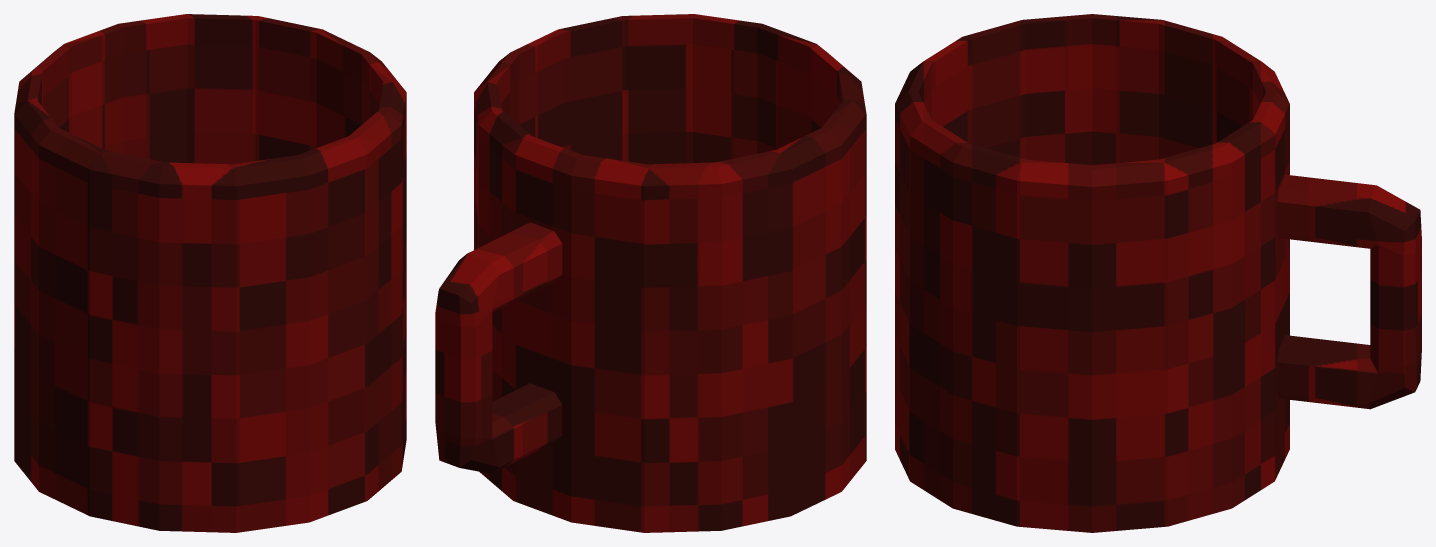
Rendered from mugred.fbx.
3 renders of one model, left to right at view 1: azimuth 30°, elevation 25°; view 2: azimuth 150°, elevation 25°; view 3: azimuth 270°, elevation 25°, orthographic.
Parts seen in each view (by area): view 1: Mug; view 2: Mug; view 3: Mug.
Part boxes in pixels (box(x1,y1,x2,y2)): Mug: box(14, 14, 406, 532); Mug: box(435, 14, 866, 532); Mug: box(895, 14, 1421, 532).
Bounding box in the file's own units: 200 × 200 × 267.
1 material, 1 textured.
